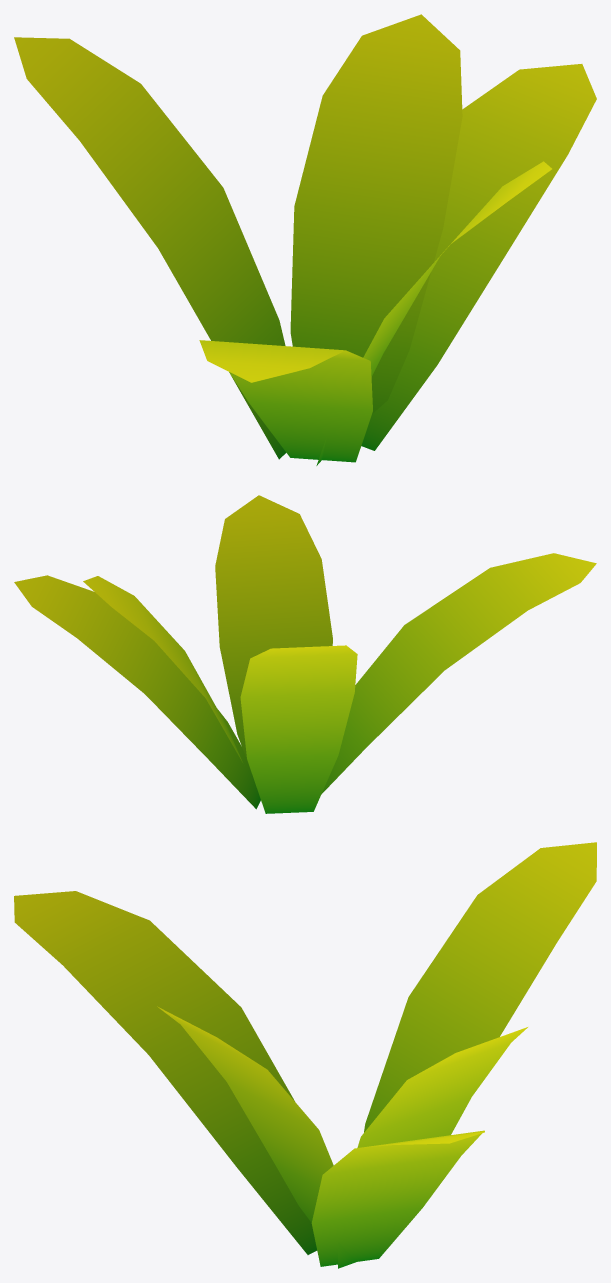
Rendered from grass_leaf_tall.glb.
The picture shows the model from 3 angles, top to bottom: view 1: azimuth 30°, elevation 25°; view 2: azimuth 150°, elevation 25°; view 3: azimuth 270°, elevation 25°; orthographic projection. The views are drawn at different scales.
Visible parts, largest first — view 1: grass_leaf_tall; view 2: grass_leaf_tall; view 3: grass_leaf_tall.
Part boxes in pixels (x1,y1,x2,y2): grass_leaf_tall: (14, 14, 596, 465); grass_leaf_tall: (14, 495, 596, 813); grass_leaf_tall: (14, 842, 596, 1268).
Bounding box in the file's own units: 0.2109 × 0.1244 × 0.1995.
